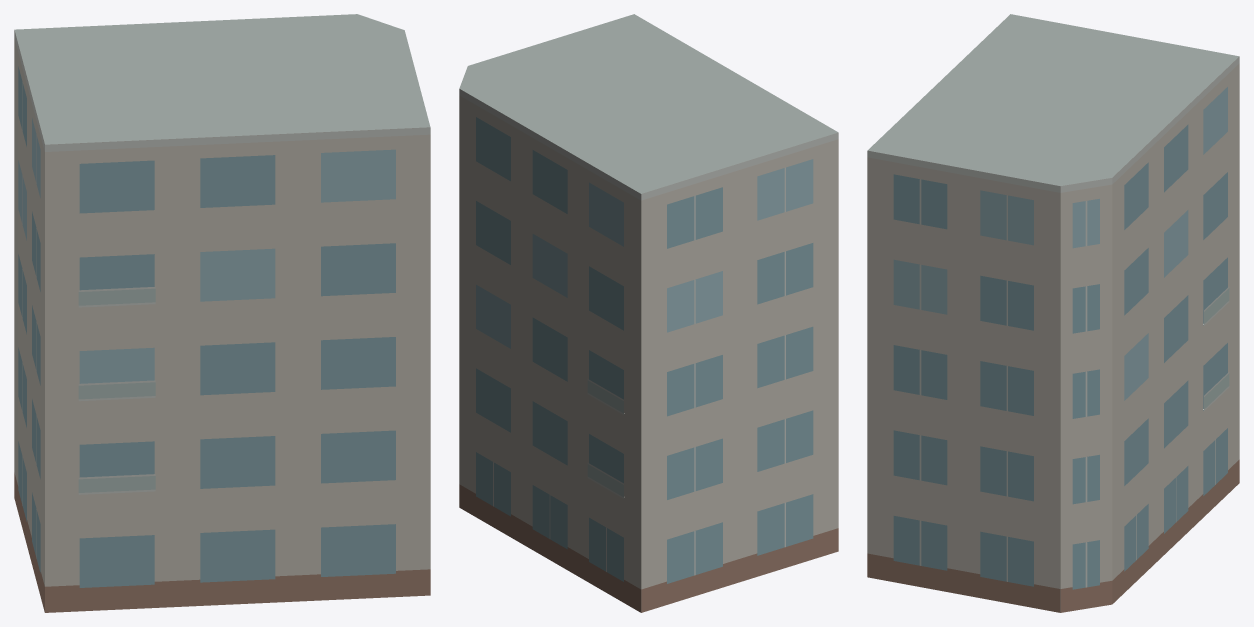
Rendered from survey-upis-32525796.glb.
3 views of the same model, side by side, from view 1: azimuth 30°, elevation 25°; view 2: azimuth 150°, elevation 25°; view 3: azimuth 270°, elevation 25° (orthographic). The views are drawn at different scales.
Parts seen in each view (by area): view 1: survey-upis-32525796.tmp; view 2: survey-upis-32525796.tmp; view 3: survey-upis-32525796.tmp.
Part boxes in pixels (<box>): survey-upis-32525796.tmp: <box>14,14,430,612</box>; survey-upis-32525796.tmp: <box>459,14,838,612</box>; survey-upis-32525796.tmp: <box>867,14,1239,612</box>.
Size of the model in its own units: 13.34 by 15.4 by 12.18.
